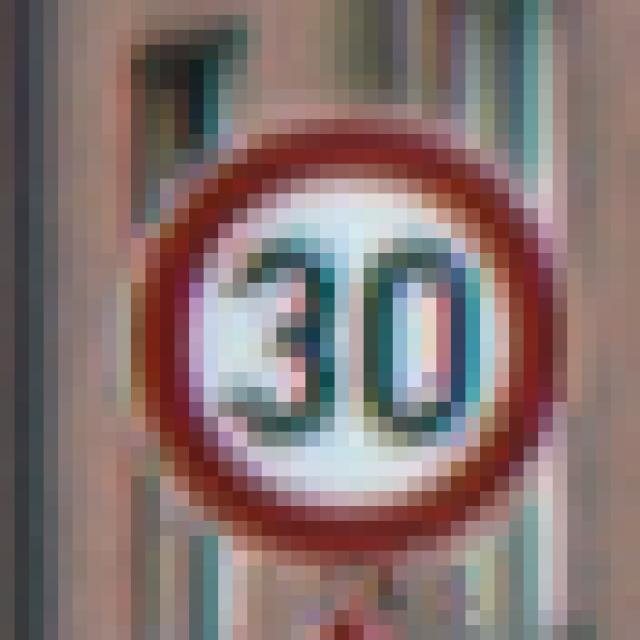Speed Limit -30-: (80, 82, 545, 558)
